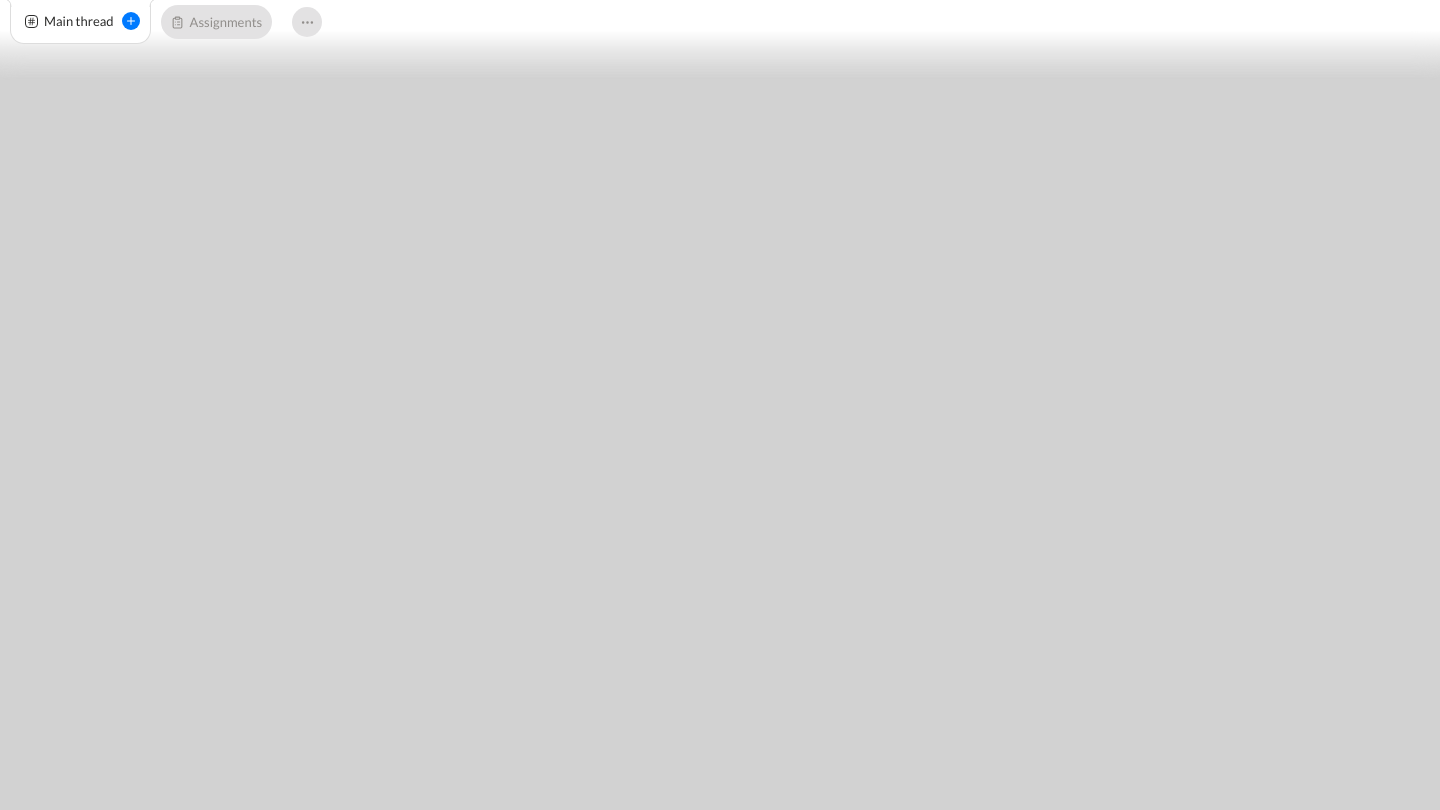
Scenario: ThreadTabStrip — collapsed Assignments tile › live streaming badge on an assignment thread row › shows the streaming badge on a non-selected assignment thread whose in-flight buffer is non-empty
Click the button with test id "thread-tab-assignments" at (216, 22), box [161, 5, 272, 39]
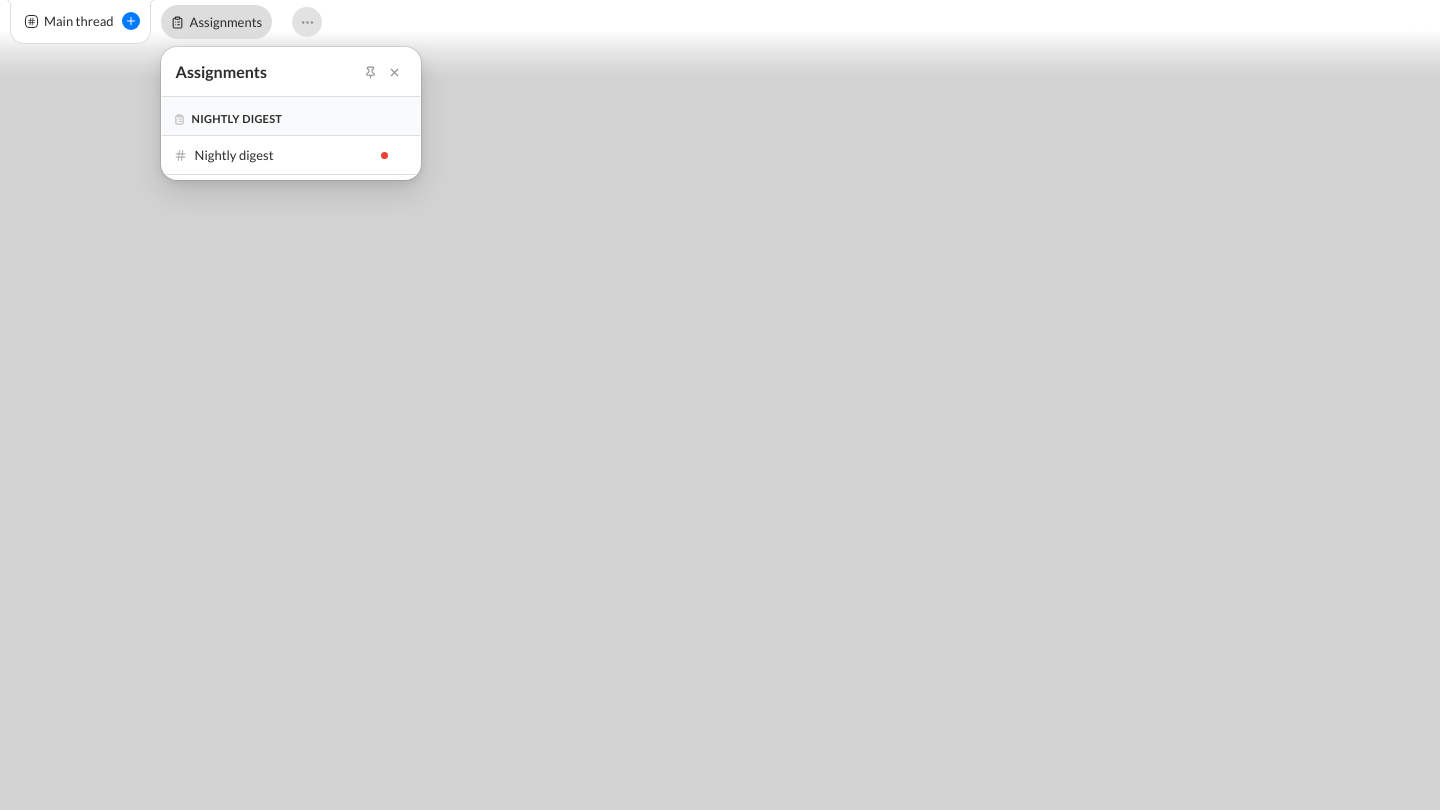
Now the element with test id "thread-streaming-badge-run-1" is shown, box [381, 152, 388, 158]
